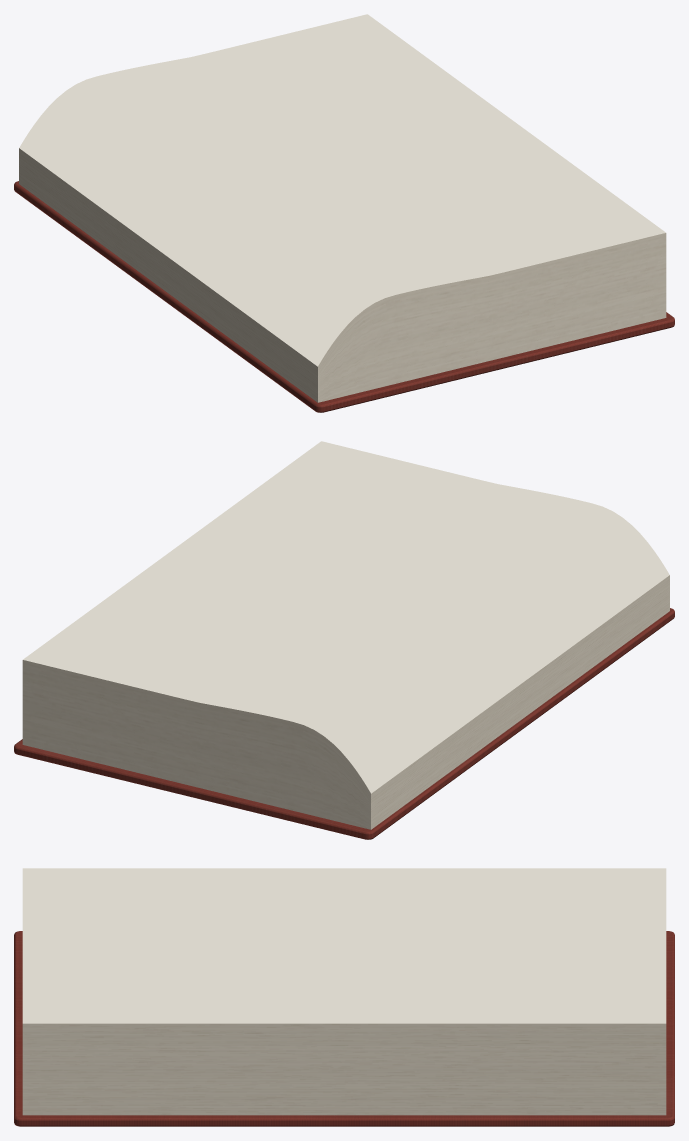
File: book.glb
3 views of the same model, one above another, from view 1: azimuth 30°, elevation 25°; view 2: azimuth 150°, elevation 25°; view 3: azimuth 270°, elevation 25° (orthographic). The views are drawn at different scales.
Parts seen in each view (by area): view 1: block, board_back; view 2: block, board_back; view 3: block, board_back.
Part boxes in pixels (left/top/right/bottom): block: left=19, top=14, right=666, bottom=402; board_back: left=14, top=181, right=674, bottom=412; block: left=22, top=441, right=669, bottom=829; board_back: left=14, top=608, right=674, bottom=839; block: left=22, top=868, right=666, bottom=1115; board_back: left=14, top=931, right=674, bottom=1126.
Size of the model in its own units: 0.152 by 0.0392 by 0.225.
5 materials, 4 textured.
